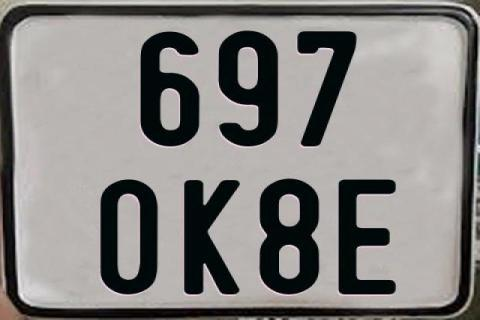0: (97, 177, 161, 296), (138, 31, 201, 150), (256, 178, 318, 298), (297, 29, 357, 150), (215, 29, 275, 147)
E: (335, 177, 398, 295)
K: (182, 179, 243, 297)
